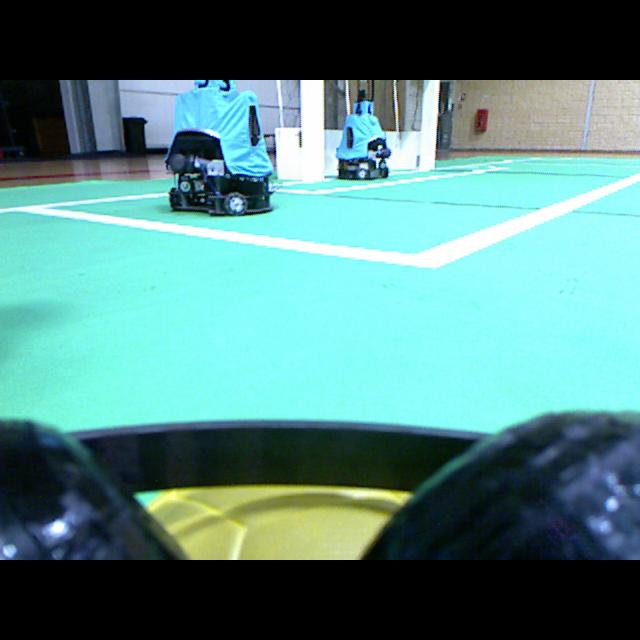goal: (300, 80, 323, 182), (419, 80, 438, 170)
